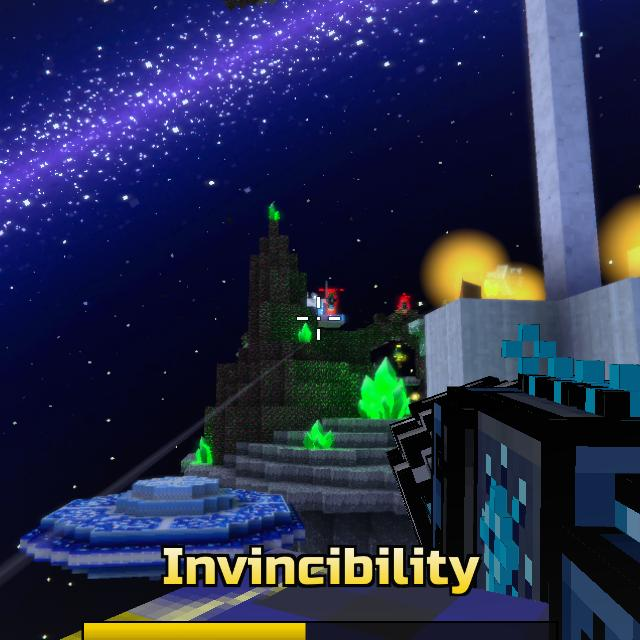Enemy: (326, 292, 338, 310), (401, 301, 408, 310)
